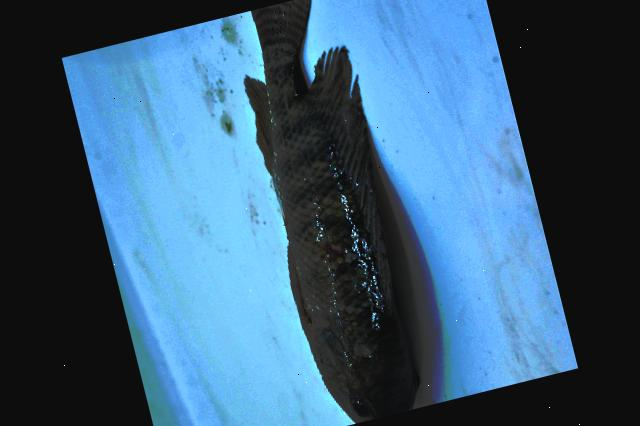Columnaris Disease: (246, 0, 420, 423)
